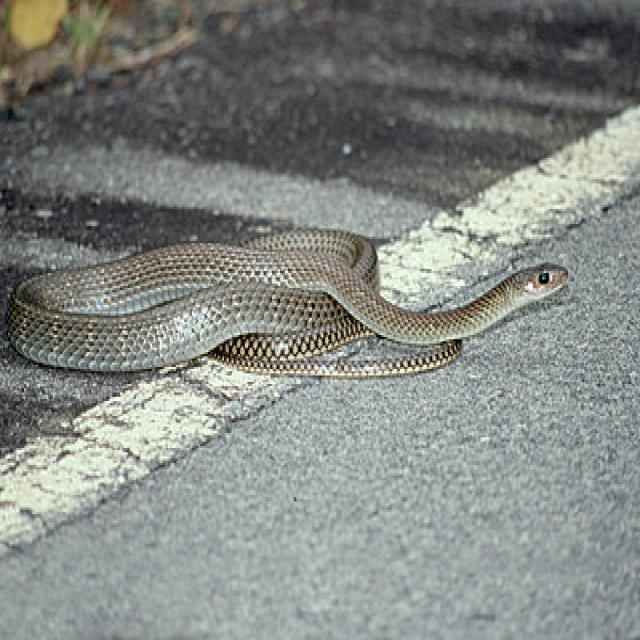Snake: (5, 224, 568, 380)
